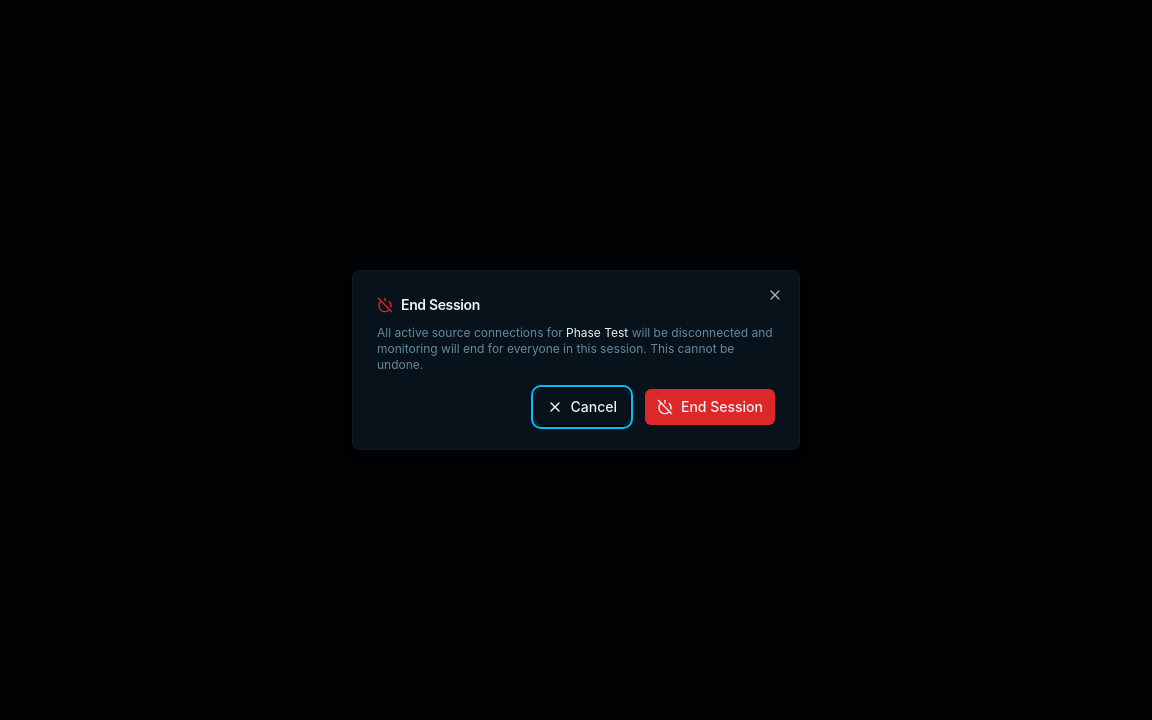
Test: server-confirms-first ordering › never ends locally when the server request fails
What coordinates should you click on to do the following:
click the button "End Session"
I would click on:
 (710, 407)
Its box is 645,389 -> 775,425.
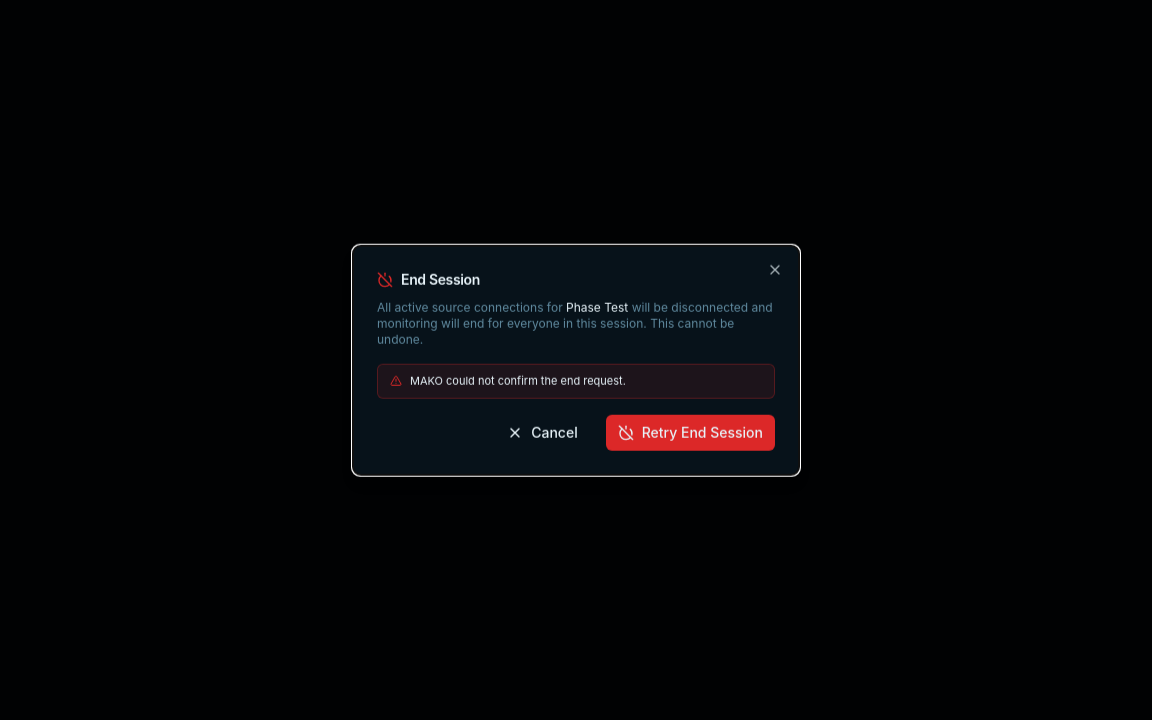
Expected: the message "MAKO could not confirm the end request." is shown, 377,364 -> 775,398
Expected: the button "Retry End Session" is shown, 606,414 -> 775,450
